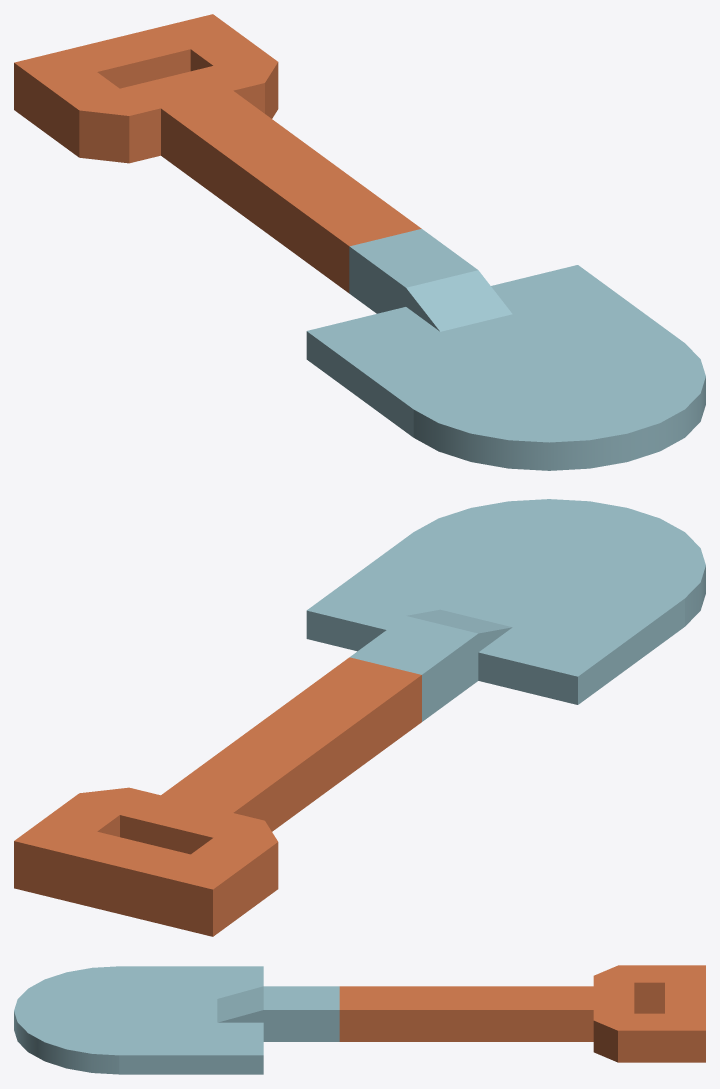
Rendered from shovel.dae.
3 renders of one model, top to bottom at view 1: azimuth 30°, elevation 25°; view 2: azimuth 150°, elevation 25°; view 3: azimuth 270°, elevation 25°, orthographic. The views are drawn at different scales.
Parts seen in each view (by area): view 1: shovel; view 2: shovel; view 3: shovel.
Boxes of the visible parts, x1,y1,x2,y2 form: shovel: (14, 14, 705, 470); shovel: (14, 499, 705, 936); shovel: (14, 965, 705, 1074).
Bounding box in the file's own units: 0.192 × 0.032 × 0.63.
